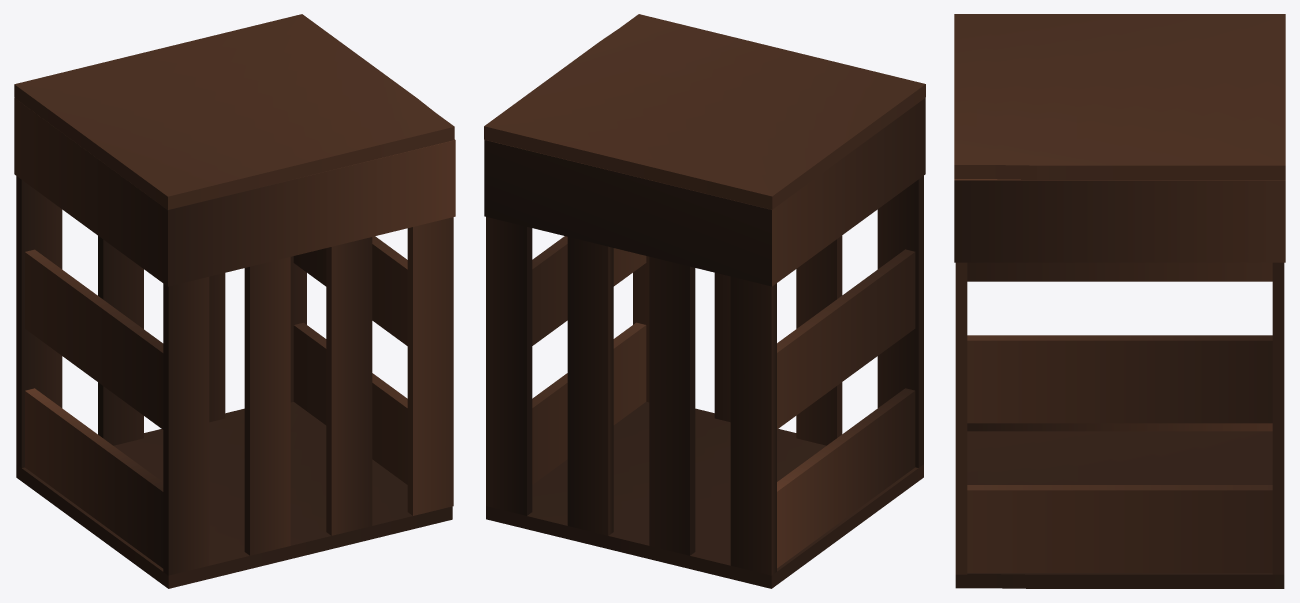
File: Tall Dark Crate Closed Lid.fbx
The picture shows the model from 3 angles, left to right: view 1: azimuth 30°, elevation 25°; view 2: azimuth 150°, elevation 25°; view 3: azimuth 270°, elevation 25°; orthographic projection. The views are drawn at different scales.
Parts seen in each view (by area): view 1: Tall Dark Crate Closed Lid; view 2: Tall Dark Crate Closed Lid; view 3: Tall Dark Crate Closed Lid.
Boxes of the visible parts, x1,y1,x2,y2 form: Tall Dark Crate Closed Lid: (14,14,455,588); Tall Dark Crate Closed Lid: (484,14,925,588); Tall Dark Crate Closed Lid: (954,14,1285,588).
Size of the model in its own units: 294 by 208 by 226.
1 material, 1 textured.
